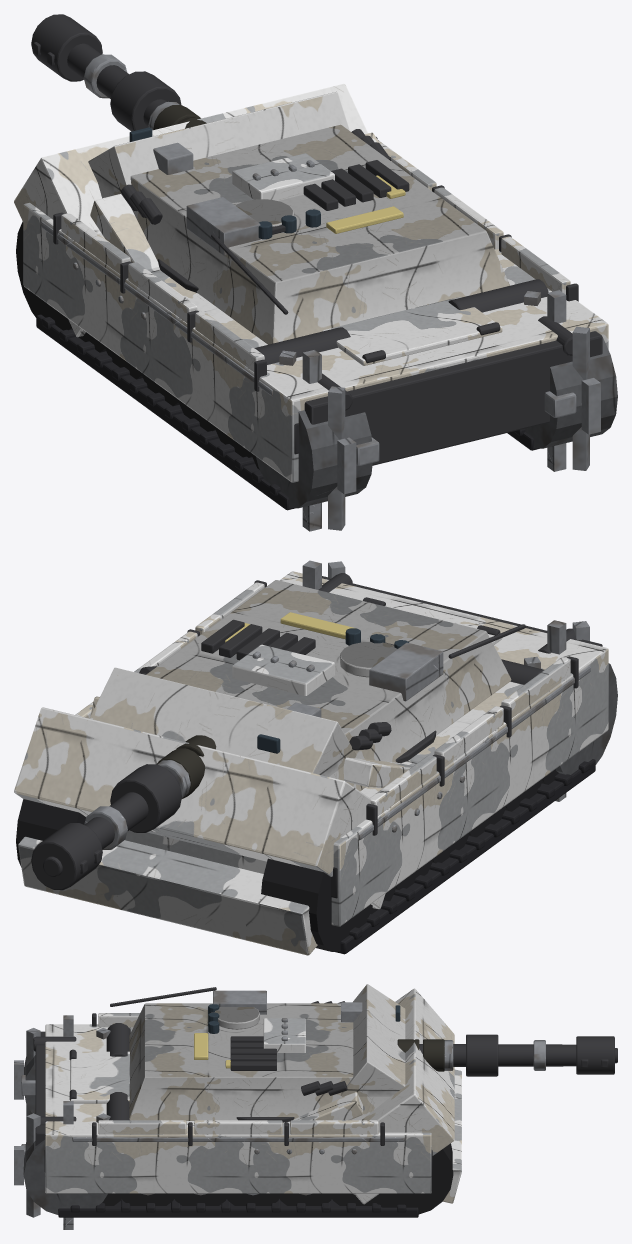
File: tank_destroyer.glb
The picture shows the model from 3 angles, top to bottom: view 1: azimuth 30°, elevation 25°; view 2: azimuth 150°, elevation 25°; view 3: azimuth 270°, elevation 25°; orthographic projection. The views are drawn at different scales.
Parts seen in each view (by area): view 1: HullMesh, TurretMesh, BarrelMesh, Wheel_L_sprocket, Wheel_R_sprocket, Wheel_L_idler; view 2: HullMesh, TurretMesh, BarrelMesh, Wheel_L_idler, Wheel_L_sprocket, Wheel_R_idler, Wheel_R_sprocket; view 3: HullMesh, TurretMesh, BarrelMesh, Wheel_R_sprocket, Wheel_R_idler, Wheel_L_sprocket, Wheel_R3, Wheel_R2, Wheel_R4, Wheel_R1, Wheel_R0.
Boxes of the visible parts, x1=… form: HullMesh: x1=14, y1=83, x2=608, y2=510; TurretMesh: x1=88, y1=91, x2=509, y2=344; BarrelMesh: x1=31, y1=14, x2=334, y2=200; Wheel_L_sprocket: x1=256, y1=349, x2=372, y2=531; Wheel_R_sprocket: x1=524, y1=290, x2=617, y2=471; Wheel_L_idler: x1=16, y1=221, x2=72, y2=330; HullMesh: x1=14, y1=571, x2=608, y2=955; TurretMesh: x1=89, y1=580, x2=525, y2=791; BarrelMesh: x1=31, y1=644, x2=334, y2=890; Wheel_L_idler: x1=261, y1=858, x2=372, y2=951; Wheel_L_sprocket: x1=524, y1=620, x2=617, y2=801; Wheel_R_idler: x1=16, y1=799, x2=85, y2=866; Wheel_R_sprocket: x1=302, y1=560, x2=345, y2=589; HullMesh: x1=21, y1=988, x2=461, y2=1217; TurretMesh: x1=110, y1=984, x2=405, y2=1122; BarrelMesh: x1=263, y1=1018, x2=617, y2=1076; Wheel_R_sprocket: x1=14, y1=1101, x2=110, y2=1229; Wheel_R_idler: x1=373, y1=1143, x2=453, y2=1214; Wheel_L_sprocket: x1=14, y1=1015, x2=110, y2=1115; Wheel_R3: x1=171, y1=1193, x2=228, y2=1205; Wheel_R2: x1=224, y1=1193, x2=281, y2=1205; Wheel_R4: x1=119, y1=1193, x2=175, y2=1205; Wheel_R1: x1=276, y1=1193, x2=334, y2=1205; Wheel_R0: x1=329, y1=1193, x2=375, y2=1205.
Bounding box in the file's own units: 3.46 × 2.32 × 7.81.
11 materials, 2 textured.
